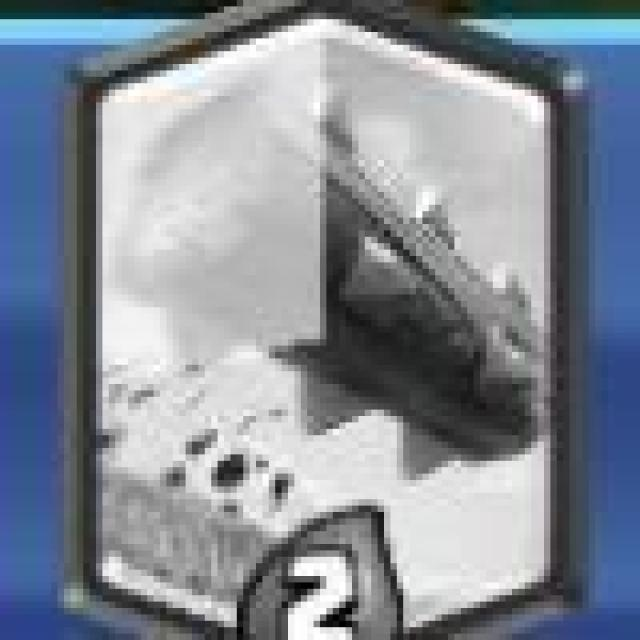Log: (82, 6, 588, 640)
